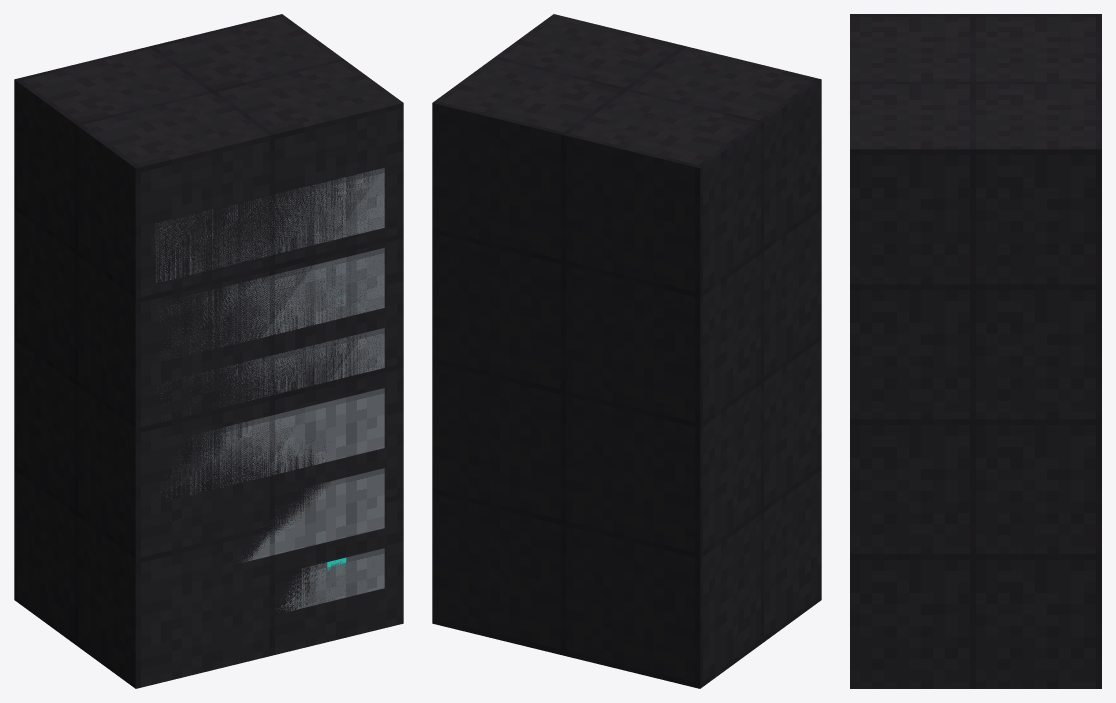
The model's file is breakerCabinet.glb.
3 views of the same model, side by side, from view 1: azimuth 30°, elevation 25°; view 2: azimuth 150°, elevation 25°; view 3: azimuth 270°, elevation 25° (orthographic). The views are drawn at different scales.
Visible parts, largest first — view 1: breakerCabinet_0; view 2: breakerCabinet_0; view 3: breakerCabinet_0.
Boxes of the visible parts, <box> form: breakerCabinet_0: <box>14,14,403,688</box>; breakerCabinet_0: <box>432,14,821,688</box>; breakerCabinet_0: <box>850,14,1101,688</box>.
Bounding box in the file's own units: 0.875 × 1.62 × 0.6875.
Materials: 1 (1 with a texture image).
